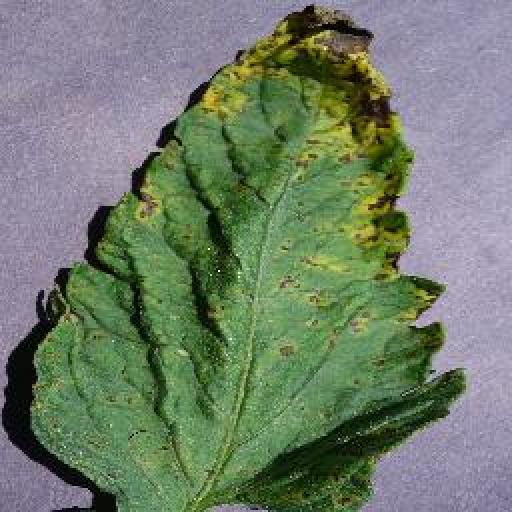Septoria: (26, 2, 466, 512)
